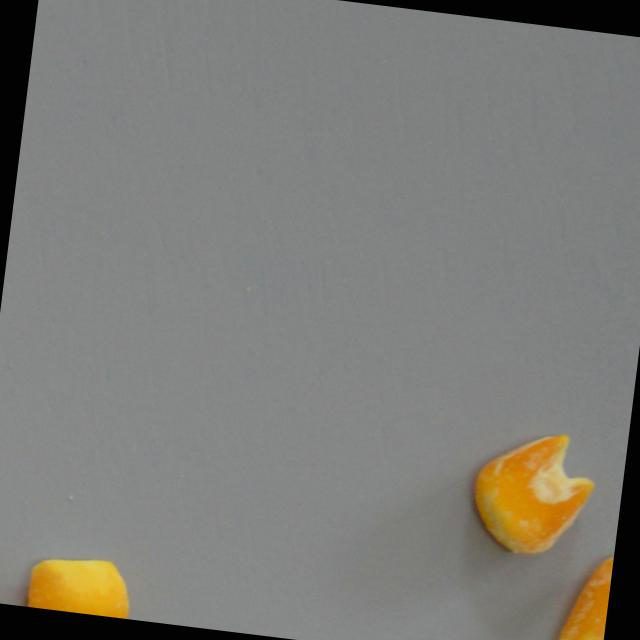no_canjicado: (22, 550, 136, 619)
pelicula: (462, 424, 599, 561), (556, 549, 614, 640)
